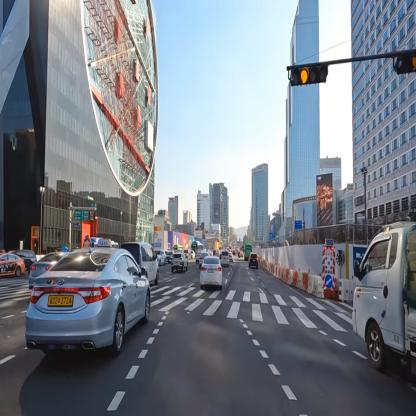Yellow: (289, 64, 327, 86)
